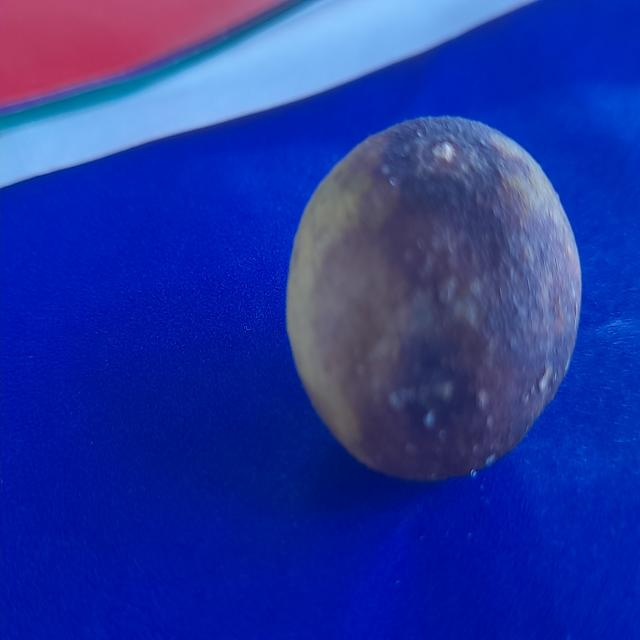black spot: (298, 102, 577, 487)
